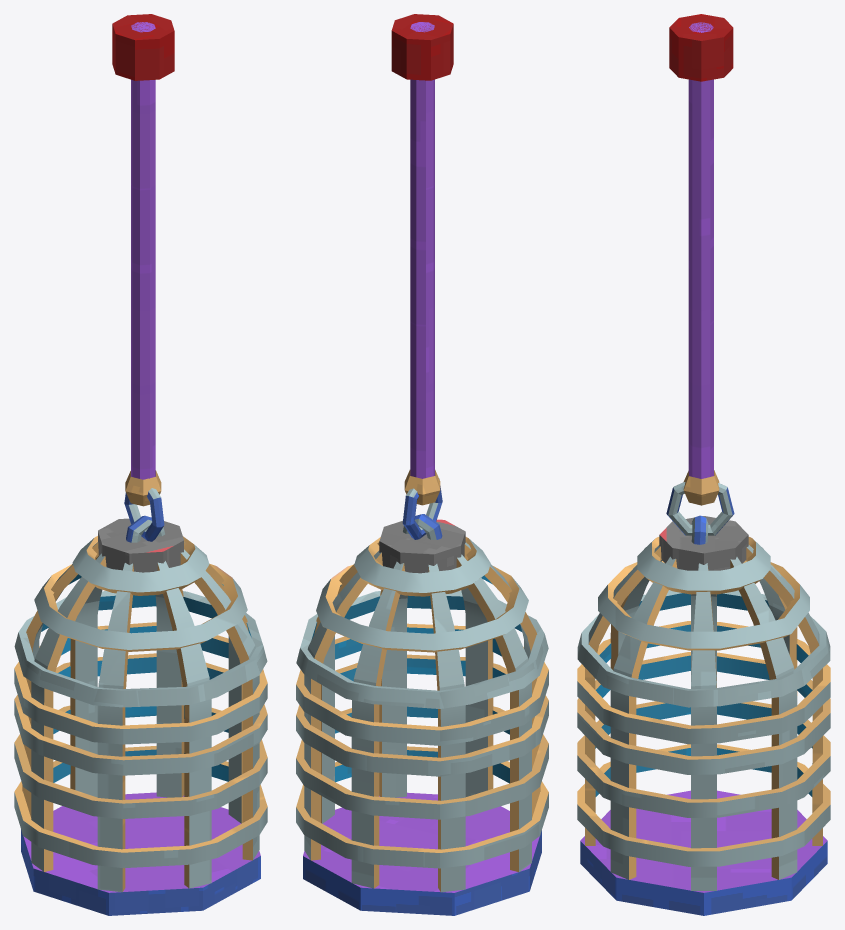
The model's file is Cage.fbx.
The picture shows the model from 3 angles, left to right: view 1: azimuth 30°, elevation 25°; view 2: azimuth 150°, elevation 25°; view 3: azimuth 270°, elevation 25°; orthographic projection.
Visible parts, largest first — view 1: polySurface58; view 2: polySurface58; view 3: polySurface58.
Boxes of the visible parts, x1,y1,x2,y2 form: polySurface58: [14, 14, 267, 915]; polySurface58: [296, 14, 548, 915]; polySurface58: [577, 14, 830, 915].
Size of the model in its own units: 82.24 by 300 by 82.24.
